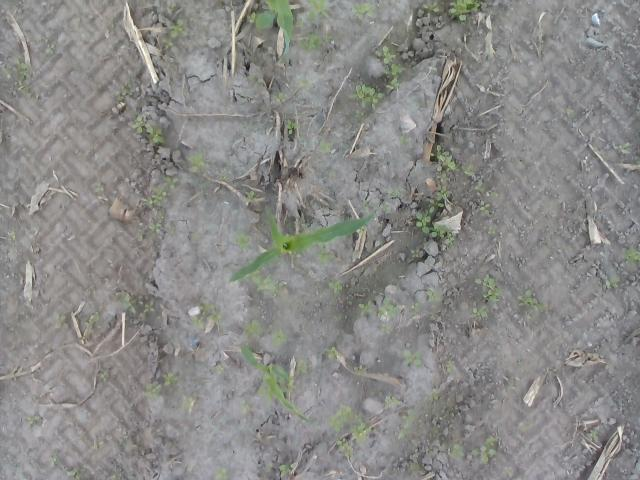Maize: (228, 204, 378, 283), (240, 344, 320, 429), (253, 0, 294, 64)
Weeds: (416, 209, 456, 245), (130, 113, 164, 144), (250, 268, 286, 297), (348, 84, 386, 110), (192, 298, 222, 330), (374, 46, 404, 76), (474, 273, 503, 303), (430, 144, 461, 172), (516, 290, 546, 318), (472, 436, 499, 466), (136, 214, 165, 240), (448, 0, 482, 22), (329, 403, 353, 433), (14, 56, 32, 94), (350, 414, 372, 445), (298, 34, 332, 52), (113, 290, 138, 314), (142, 186, 170, 206), (186, 152, 211, 174), (399, 408, 416, 439), (377, 296, 400, 318), (620, 246, 640, 270), (352, 2, 377, 20), (308, 0, 328, 21), (316, 245, 336, 266), (168, 18, 189, 38), (242, 319, 264, 338), (274, 374, 296, 392), (336, 437, 354, 457), (402, 349, 422, 367), (143, 382, 161, 400), (434, 184, 452, 202), (408, 451, 424, 471), (236, 230, 252, 250), (271, 330, 288, 348), (258, 386, 276, 403), (115, 86, 134, 102), (422, 1, 441, 17), (384, 394, 402, 410), (358, 299, 374, 316), (426, 286, 442, 303), (85, 312, 100, 330), (54, 312, 69, 330), (278, 462, 296, 477), (448, 444, 466, 458), (470, 306, 490, 318), (286, 118, 301, 134), (294, 76, 314, 88), (43, 38, 56, 56), (162, 372, 178, 386), (428, 199, 445, 212), (385, 76, 400, 90), (180, 394, 193, 410), (245, 189, 258, 205), (67, 468, 84, 480), (164, 176, 178, 190), (328, 280, 344, 292), (479, 200, 491, 216), (614, 142, 630, 154), (142, 300, 155, 314), (318, 139, 332, 152), (324, 346, 339, 358), (604, 278, 622, 288), (460, 164, 476, 175), (48, 451, 58, 468), (387, 188, 404, 198), (215, 467, 228, 480), (26, 415, 40, 427), (518, 421, 534, 431), (501, 466, 514, 478), (245, 10, 257, 23), (292, 14, 303, 28), (436, 172, 450, 183), (379, 324, 394, 334), (240, 399, 250, 414), (354, 365, 366, 377), (445, 360, 455, 374), (247, 76, 264, 84), (474, 180, 485, 192), (100, 369, 110, 382), (288, 250, 302, 259), (2, 66, 12, 78), (162, 38, 174, 48), (272, 92, 284, 102), (429, 389, 438, 402), (298, 362, 308, 373), (214, 364, 224, 375), (400, 134, 410, 144), (410, 302, 420, 312), (410, 248, 420, 258), (95, 182, 105, 192), (381, 204, 392, 213), (590, 430, 599, 439), (488, 226, 497, 235), (354, 110, 364, 118), (168, 4, 176, 14), (9, 230, 17, 240), (363, 199, 369, 212), (488, 191, 500, 197), (168, 226, 176, 234), (242, 94, 250, 102), (220, 173, 228, 180), (566, 108, 574, 115), (415, 101, 421, 109), (331, 173, 336, 178)
